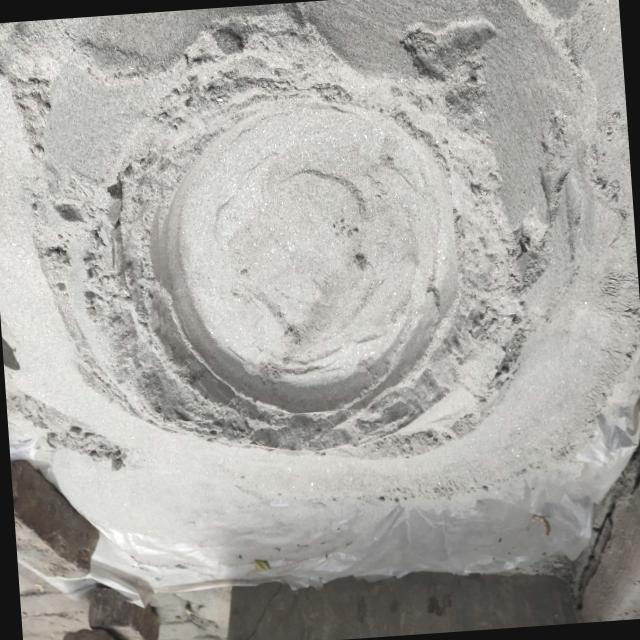C40: (156, 103, 457, 412)
